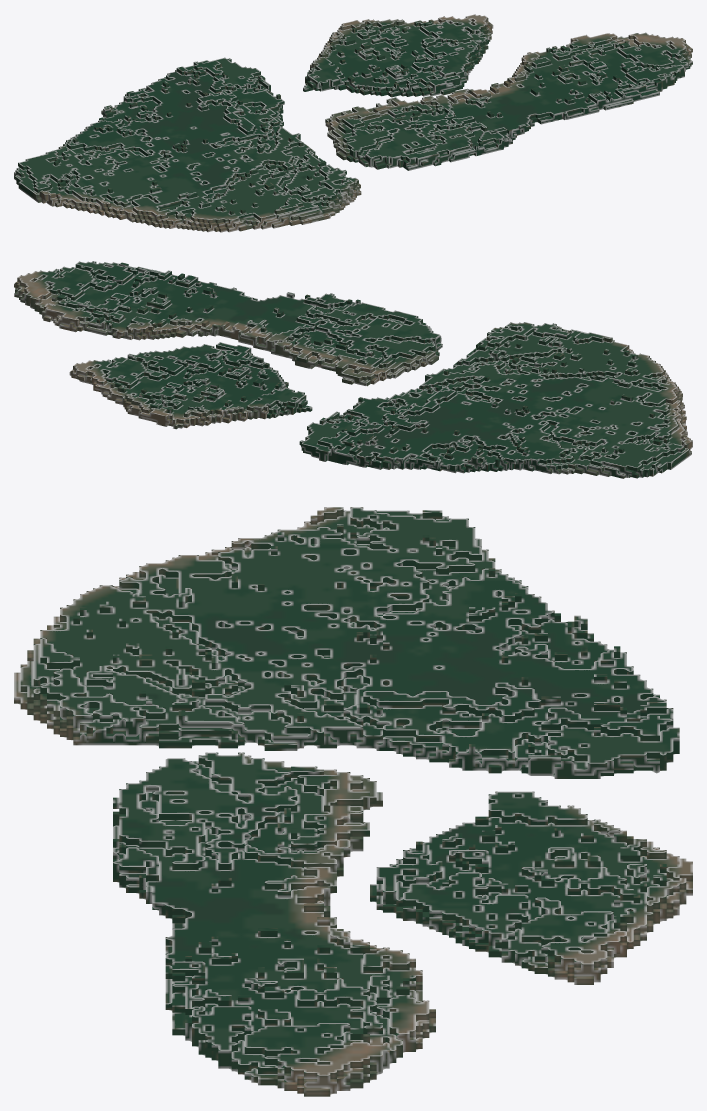
The model's file is ilhaXimba.fbx.
The picture shows the model from 3 angles, top to bottom: view 1: azimuth 30°, elevation 25°; view 2: azimuth 150°, elevation 25°; view 3: azimuth 270°, elevation 25°; orthographic projection. The views are drawn at different scales.
Parts seen in each view (by area): view 1: ilhaXimba; view 2: ilhaXimba; view 3: ilhaXimba.
Boxes of the visible parts, box(x1,y1,x2,y2) form: ilhaXimba: box(14, 14, 692, 232); ilhaXimba: box(14, 261, 692, 478); ilhaXimba: box(14, 507, 692, 1096).
Size of the model in its own units: 20.6 by 0.4 by 10.3.
1 material, 1 textured.
